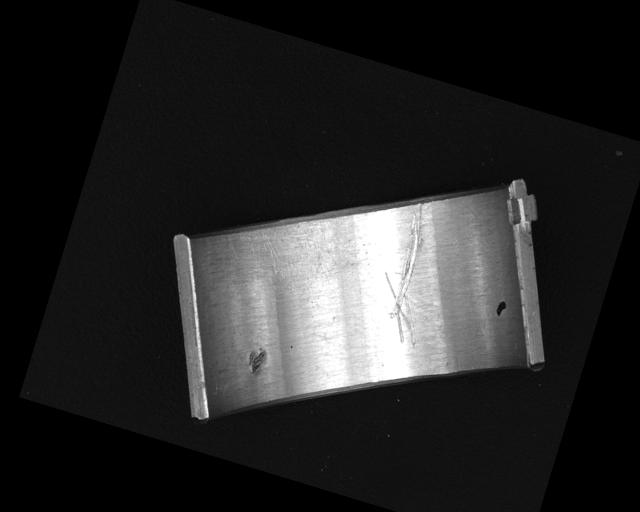blot: (492, 298, 509, 319)
bruise: (243, 344, 270, 378)
nick: (363, 195, 454, 346)
scratch: (219, 193, 350, 297)
